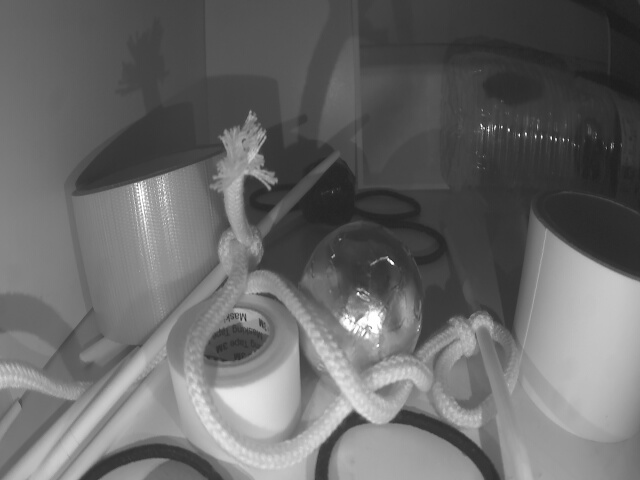Dead: (306, 163, 353, 221)
Live: (300, 224, 426, 377)
